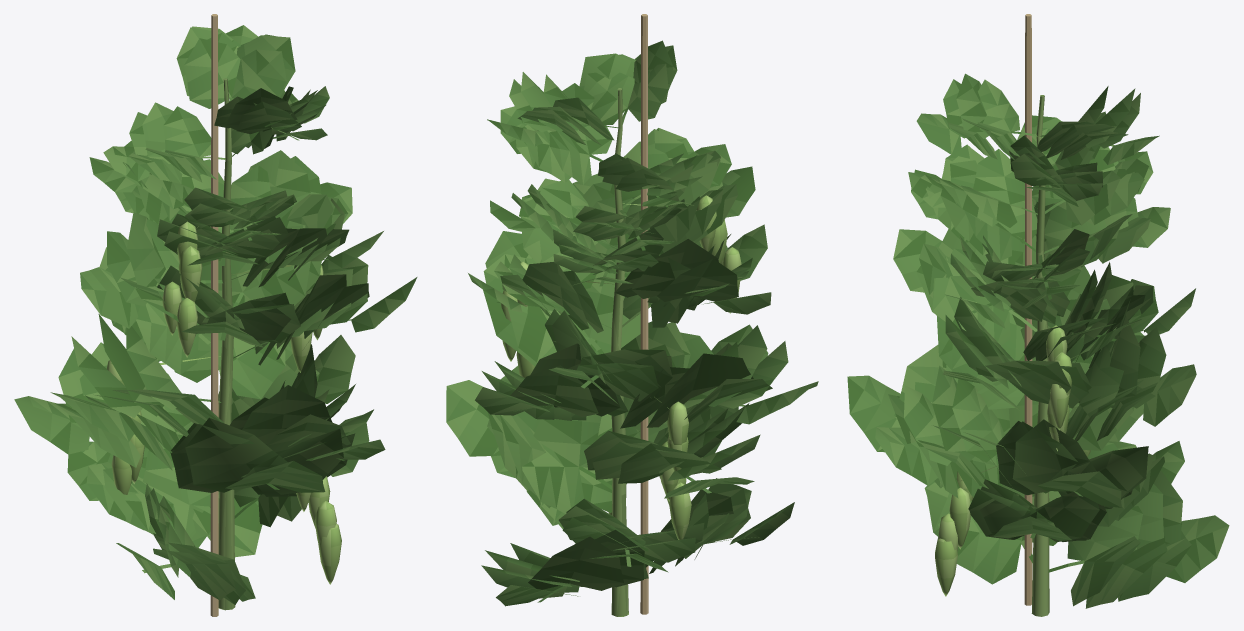
File: tomate_cornue_vert.glb
3 views of the same model, side by side, from view 1: azimuth 30°, elevation 25°; view 2: azimuth 150°, elevation 25°; view 3: azimuth 270°, elevation 25° (orthographic).
Parts seen in each view (by area): view 1: Tomate_Feuilles, Tomate_Fruits, Tomate_Tige, Tomate_Tuteur; view 2: Tomate_Feuilles, Tomate_Fruits, Tomate_Tige, Tomate_Tuteur; view 3: Tomate_Feuilles, Tomate_Fruits, Tomate_Tige, Tomate_Tuteur.
Part boxes in pixels (<box>): Tomate_Feuilles: <box>14,25,417,604</box>; Tomate_Fruits: <box>106,221,341,584</box>; Tomate_Tige: <box>218,78,235,610</box>; Tomate_Tuteur: <box>210,14,218,616</box>; Tomate_Feuilles: <box>446,40,818,606</box>; Tomate_Fruits: <box>500,195,741,539</box>; Tomate_Tige: <box>611,88,628,616</box>; Tomate_Tuteur: <box>640,14,648,614</box>; Tomate_Feuilles: <box>847,73,1229,608</box>; Tomate_Fruits: <box>935,201,1090,596</box>; Tomate_Tige: <box>1031,95,1049,616</box>; Tomate_Tuteur: <box>1024,14,1032,605</box>.
Bounding box in the file's own units: 0.5806 × 0.9803 × 0.5761.
